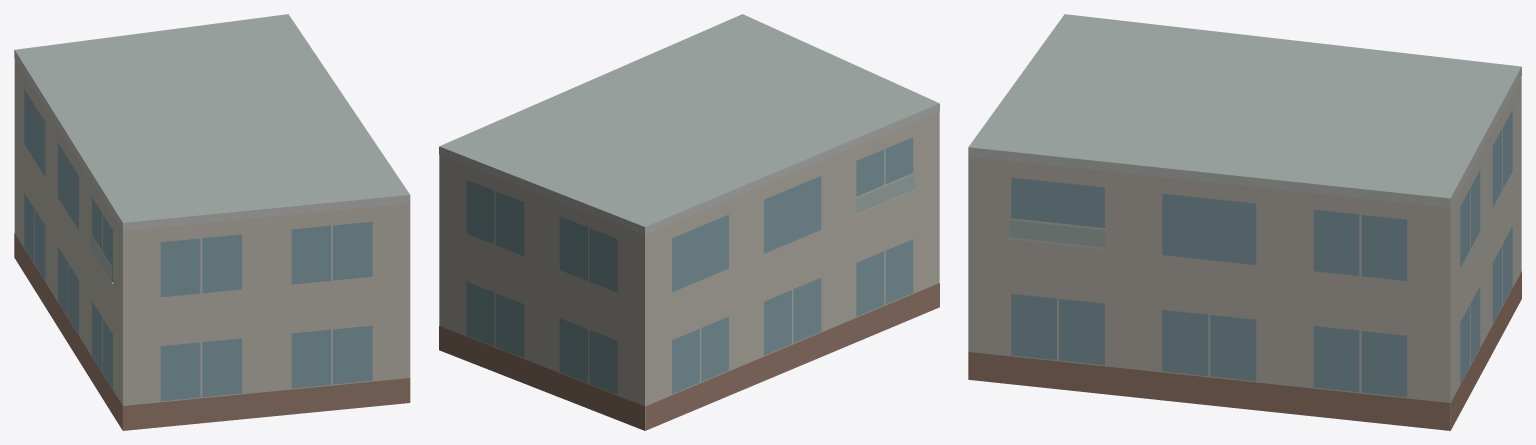
The model's file is survey-upis-32965138.glb.
3 renders of one model, left to right at view 1: azimuth 30°, elevation 25°; view 2: azimuth 150°, elevation 25°; view 3: azimuth 270°, elevation 25°, orthographic. The views are drawn at different scales.
Visible parts, largest first — view 1: survey-upis-32965138.tmp; view 2: survey-upis-32965138.tmp; view 3: survey-upis-32965138.tmp.
Part boxes in pixels (x1=…): survey-upis-32965138.tmp: x1=14, y1=14, x2=410, y2=430; survey-upis-32965138.tmp: x1=439, y1=14, x2=939, y2=430; survey-upis-32965138.tmp: x1=968, y1=14, x2=1521, y2=430.
Bounding box in the file's own units: 10.39 × 6.1 × 13.18.
